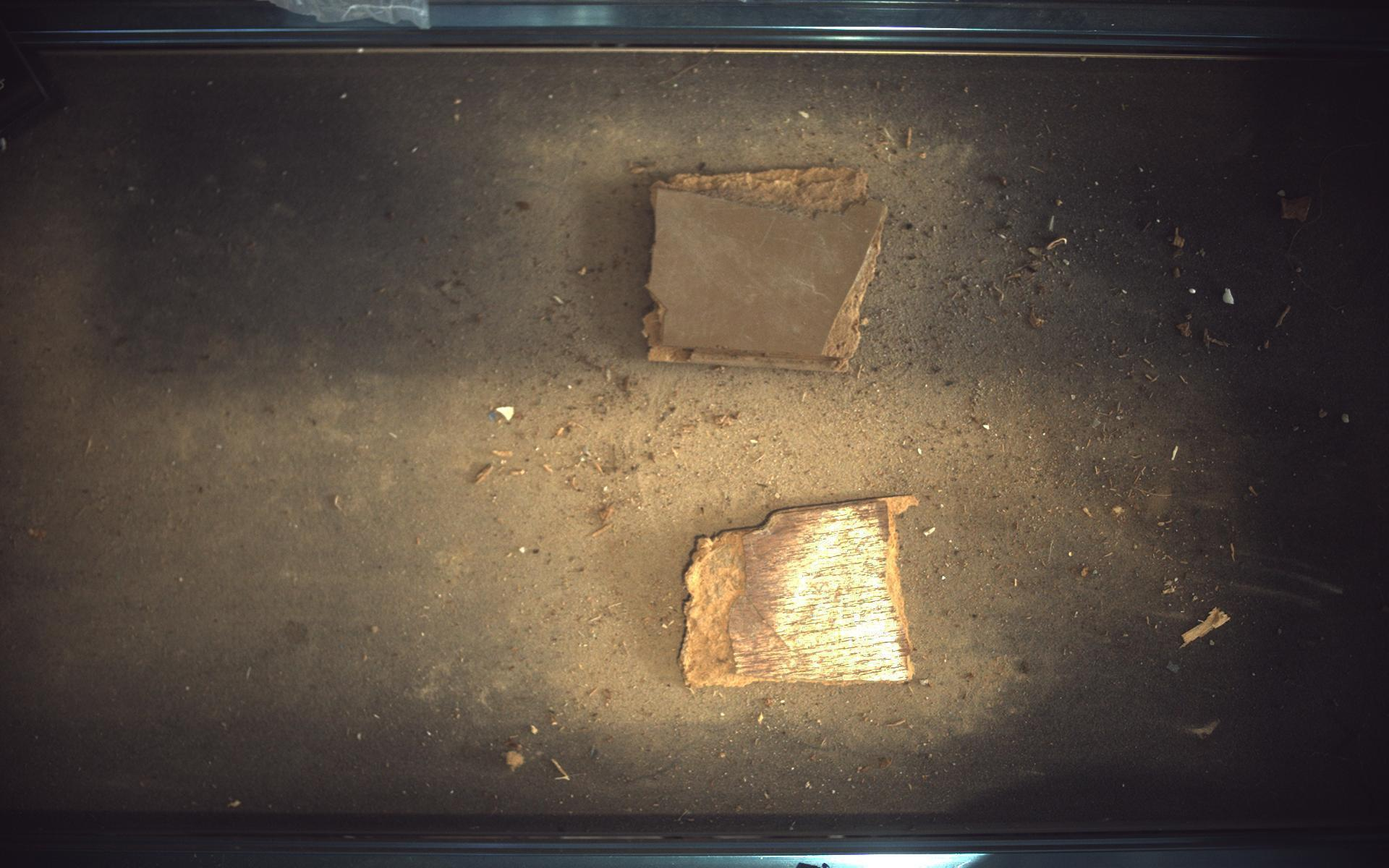wood: (645, 166, 889, 371), (681, 495, 920, 689)
